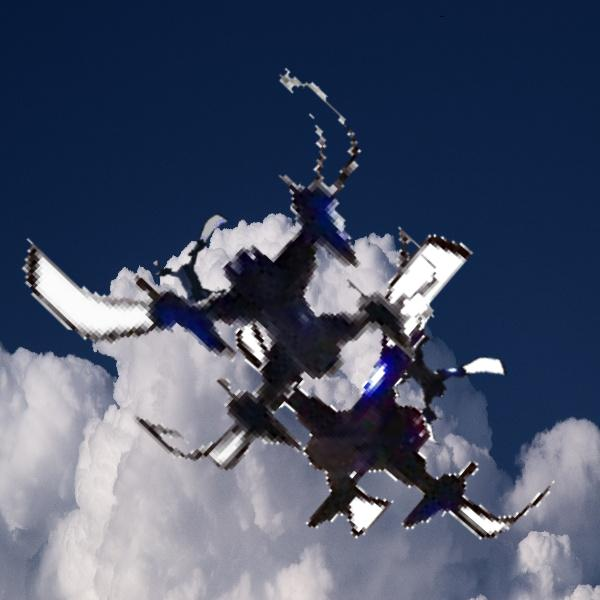drone: (48, 72, 456, 480), (227, 216, 592, 581), (380, 314, 520, 454), (150, 222, 257, 329)
